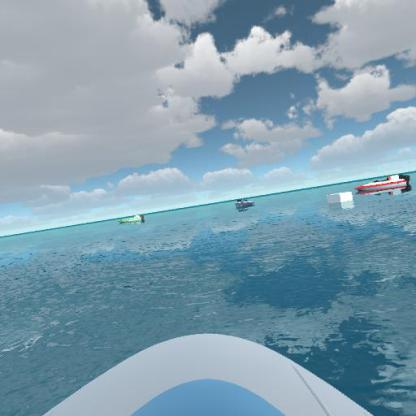usv0: (116, 207, 152, 230)
usv1: (232, 192, 260, 212)
usv3: (348, 170, 415, 196)
